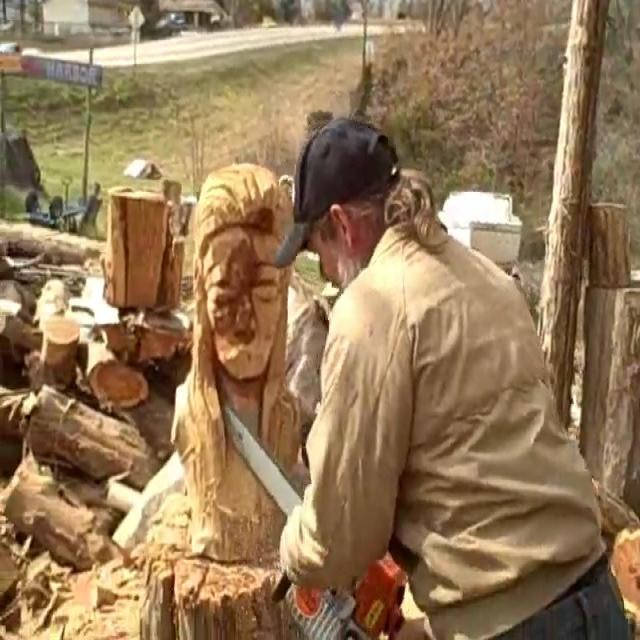Chainsaw: (192, 390, 412, 640)
